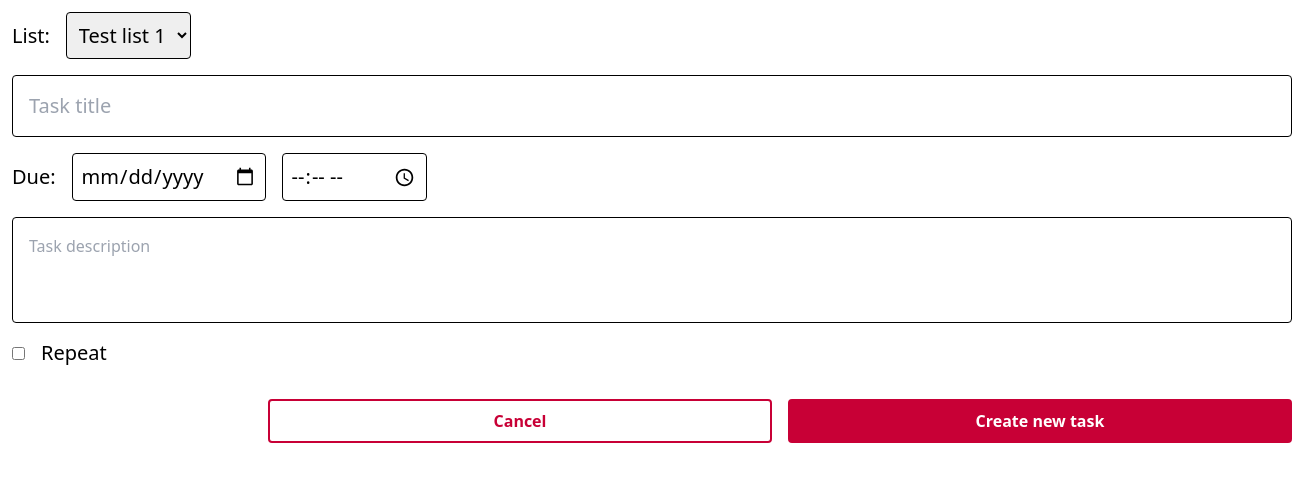
Test: New task modal form component › doesn't allow user to assign a due date in the past
Type "test task" into the field with placeholder "Task title" at (652, 106), box [12,75,1292,137]
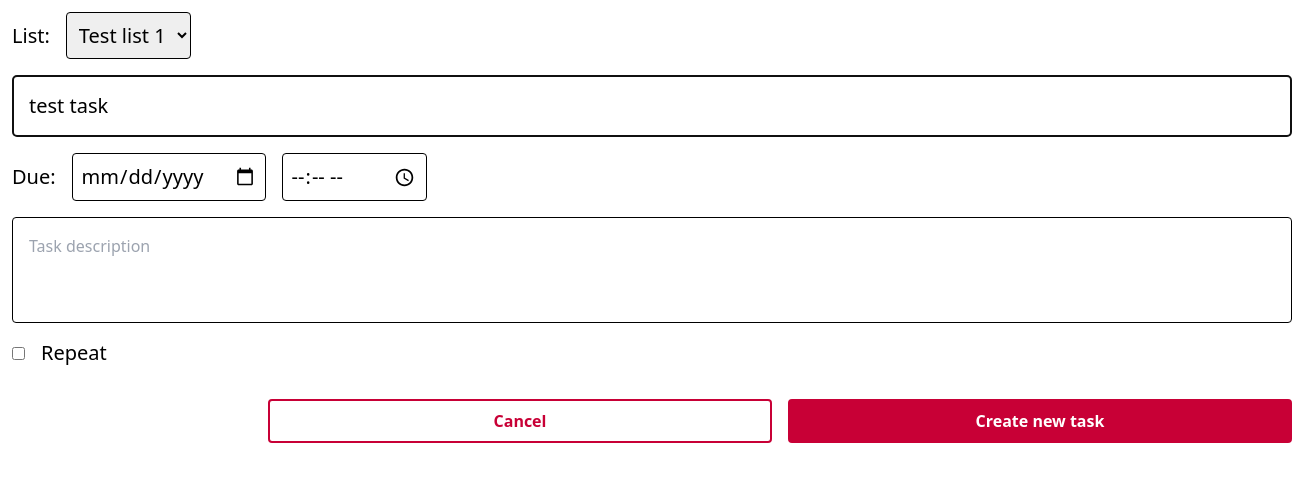
Type "2002-05-11" into the date field with id "date" at (169, 177), box [72,153,266,201]
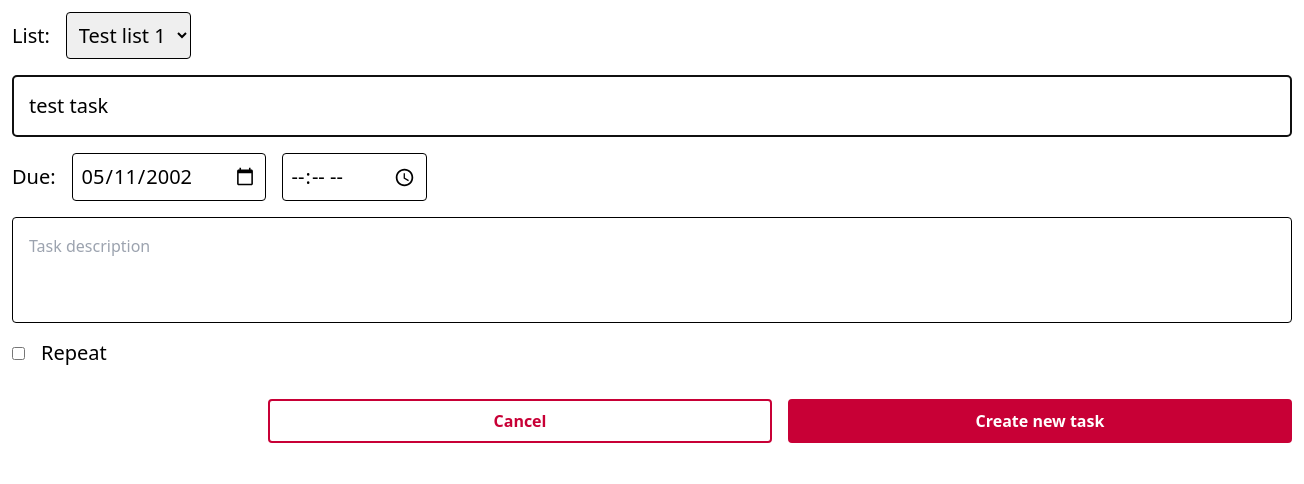
Click the button "Create new task" at (1040, 421), box [788,399,1292,443]
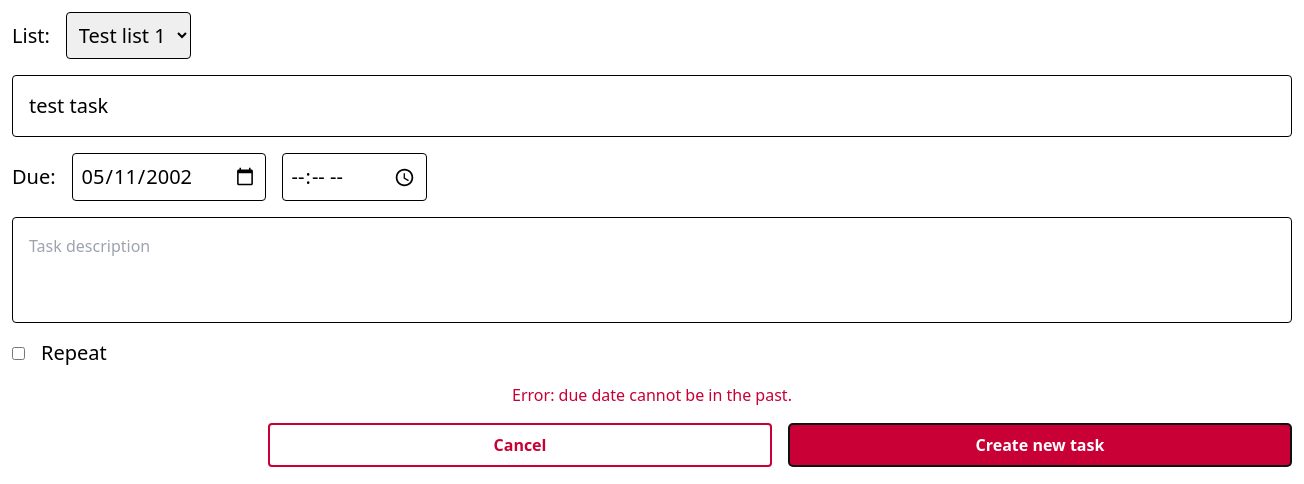
Check: the text "Error: due date cannot be in the past." is shown, box [512,384,792,406]
